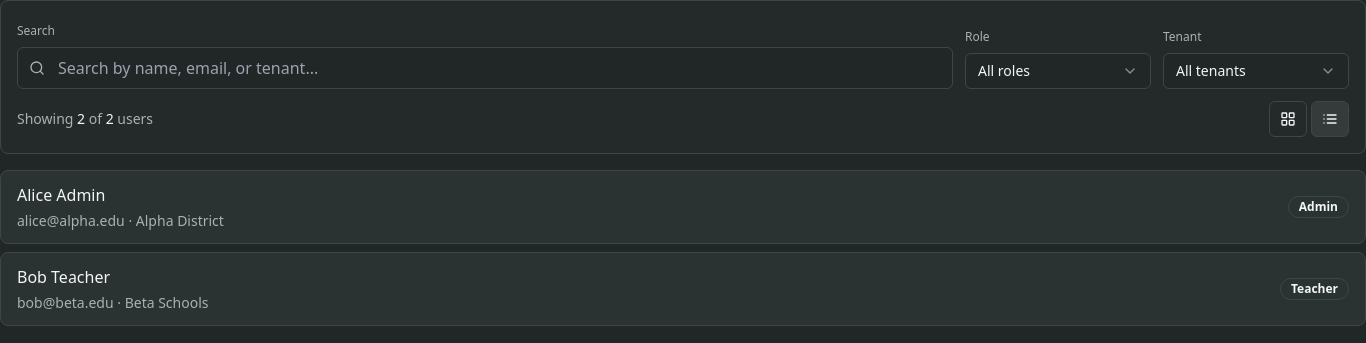
Test: UsersListComponent › should clear a role filter that stops narrowing and keep it cleared
Later steps or results of the test are not shown.
Step 1. Click the dropdown labelled "role" → click(1058, 71), box [965,53,1151,89]
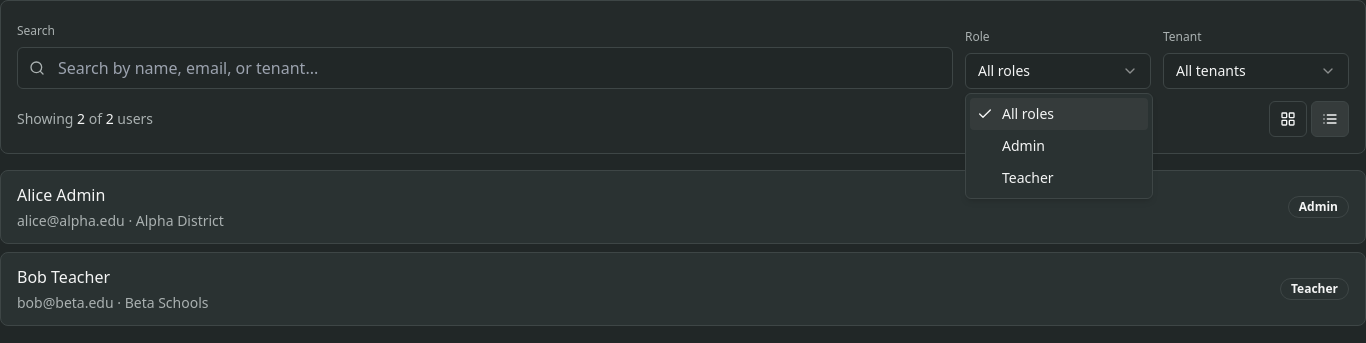
Step 2. Click the option "Admin" → click(1023, 146), box [1002,136,1045,155]
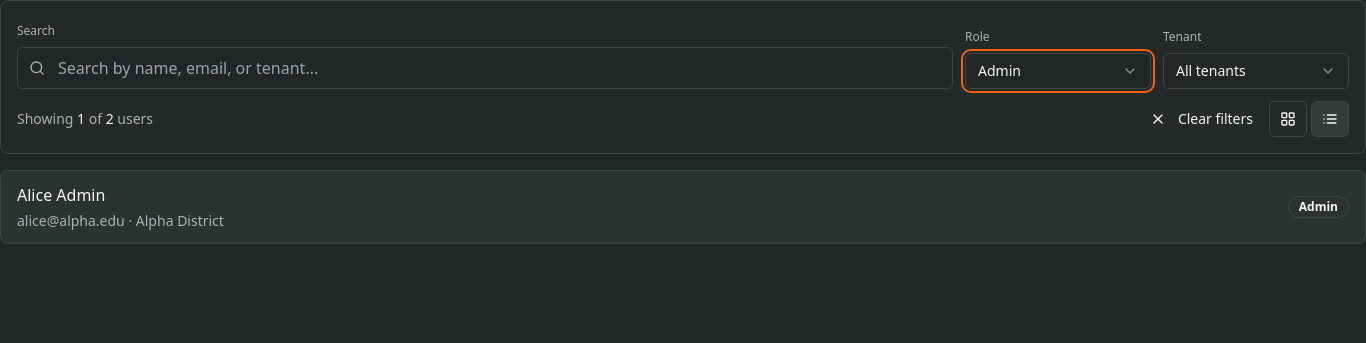
Expected: the text "Alice Admin" is shown, [17,184,105,206]
Result: the link "Bob Teacher" is gone
